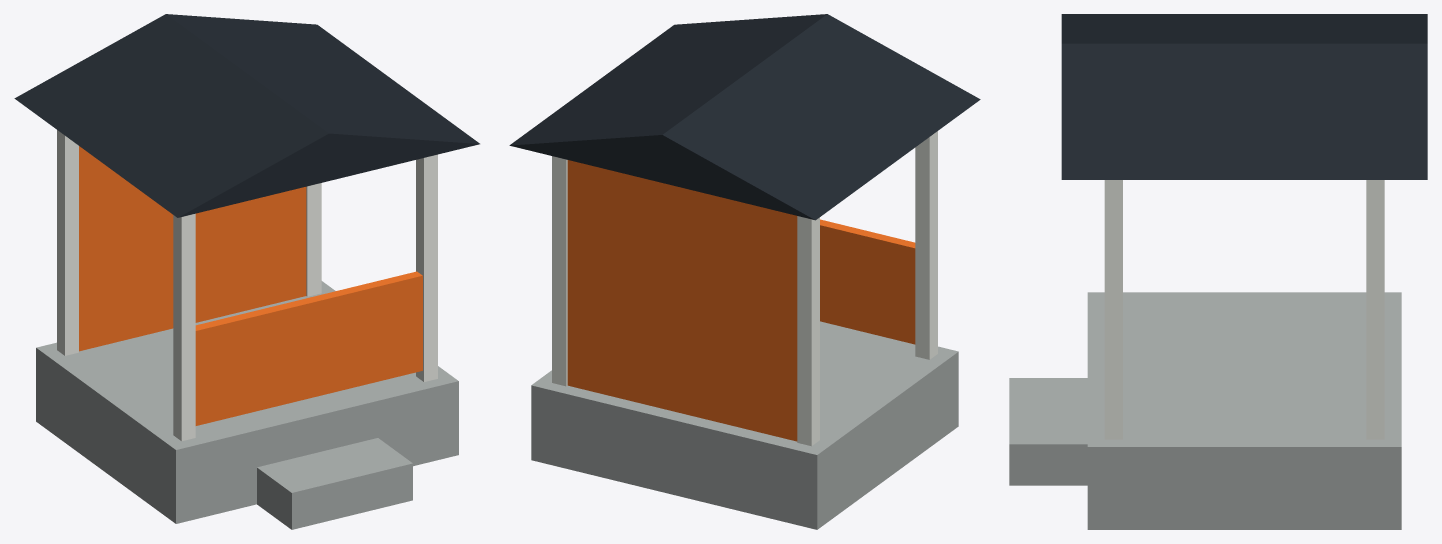
File: marshal_post.glb
3 renders of one model, left to right at view 1: azimuth 30°, elevation 25°; view 2: azimuth 150°, elevation 25°; view 3: azimuth 270°, elevation 25°, orthographic. The views are drawn at different scales.
Visible parts, largest first — view 1: marshal_post__static; view 2: marshal_post__static; view 3: marshal_post__static.
Boxes of the visible parts, <box> form: marshal_post__static: <box>14,14,479,529</box>; marshal_post__static: <box>509,14,980,529</box>; marshal_post__static: <box>1009,14,1427,529</box>.
Bounding box in the file's own units: 3 × 3.45 × 3.2.
